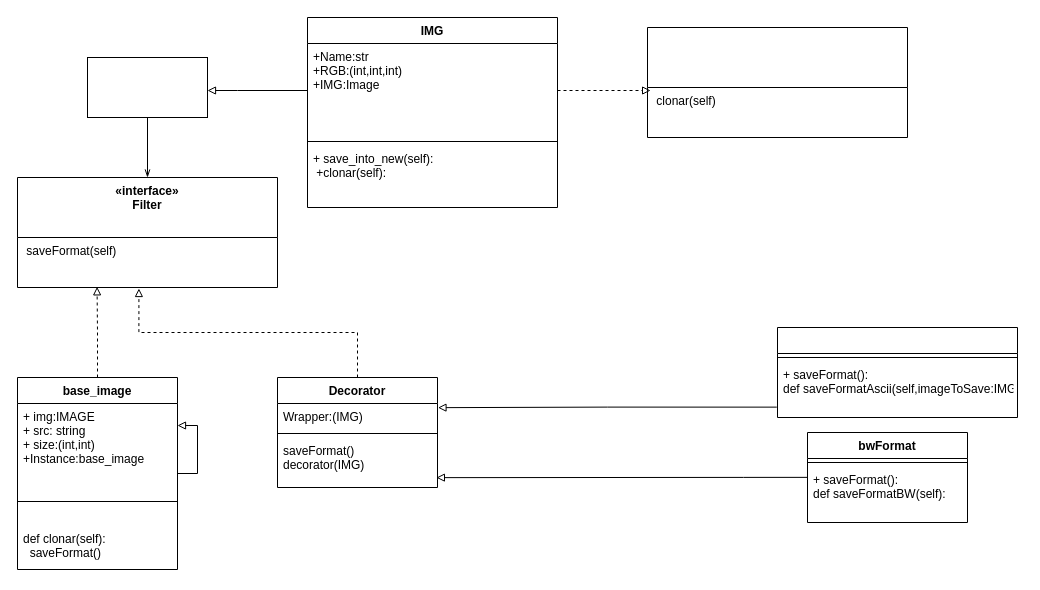
The diagram is 1040 pixels wide and 590 high, and some of its shapes have lost their labels. The box of each missing label's shape, as (x1, y1, x2, y2) in pixels:
AsciiFormat: (776, 326, 1018, 418)
client: (86, 56, 208, 118)
«interface» imagenGenerica: (646, 26, 908, 138)
